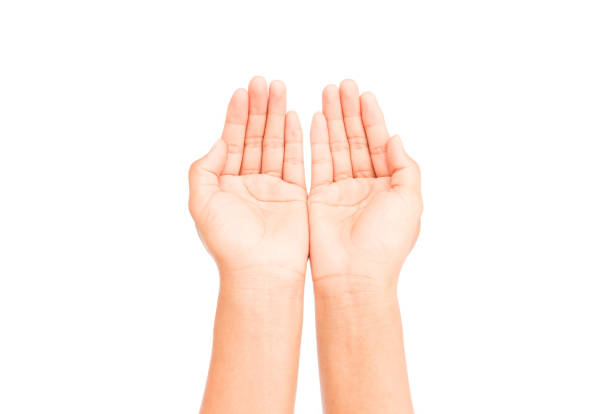hand: (172, 55, 441, 320)
